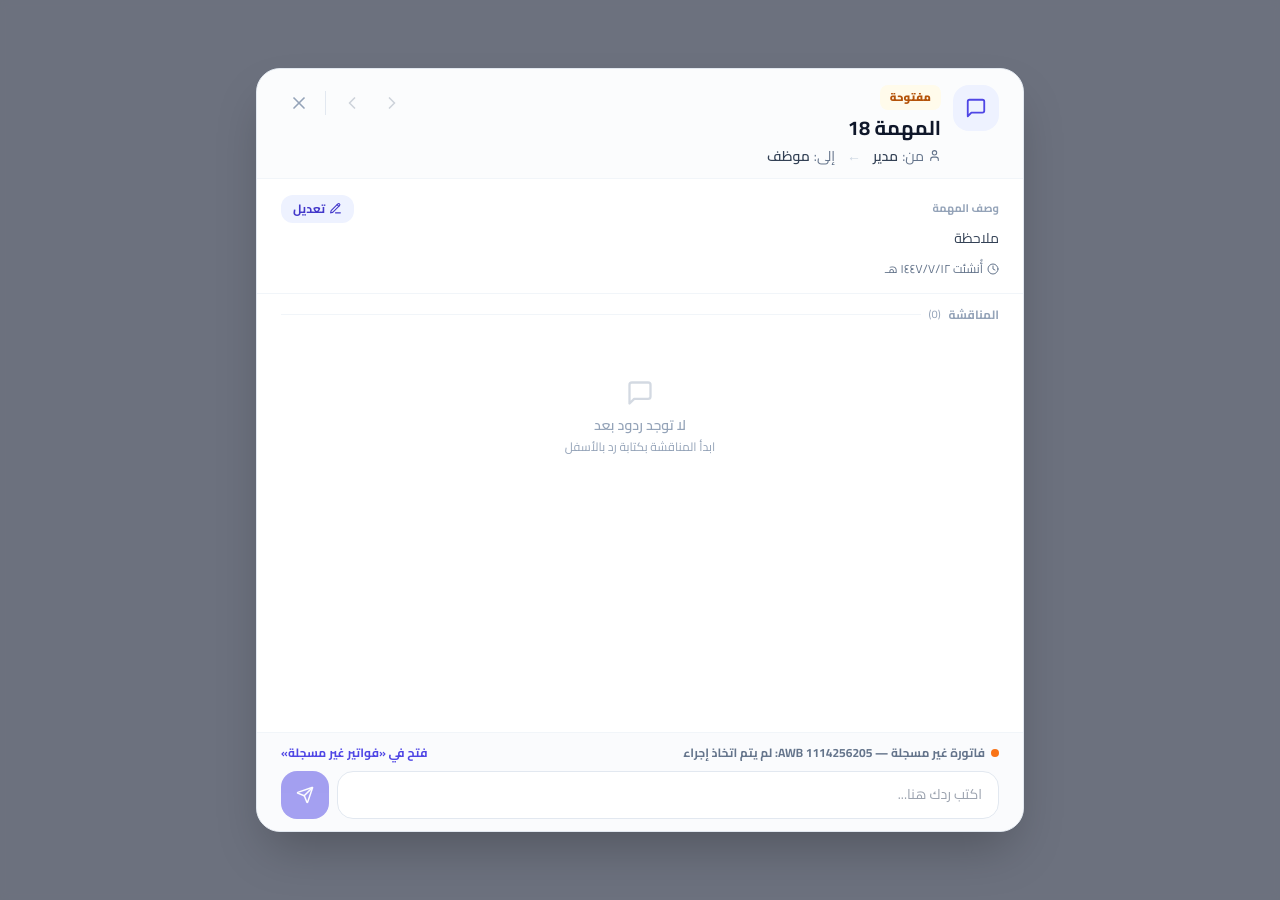
it: TaskDetailsModal — editing an open task › an unregistered-invoice record opens its own edit form (AWB, date, assignee) in the same window
Expected: the text "ملاحظة" is shown, top-left (954, 225), bottom-right (999, 251)
Expected: the text box labelled "اكتب ردك" is enabled, top-left (337, 771), bottom-right (999, 819)
Click the button "تعديل". click: (318, 209)
box: top-left (281, 195), bottom-right (354, 223)
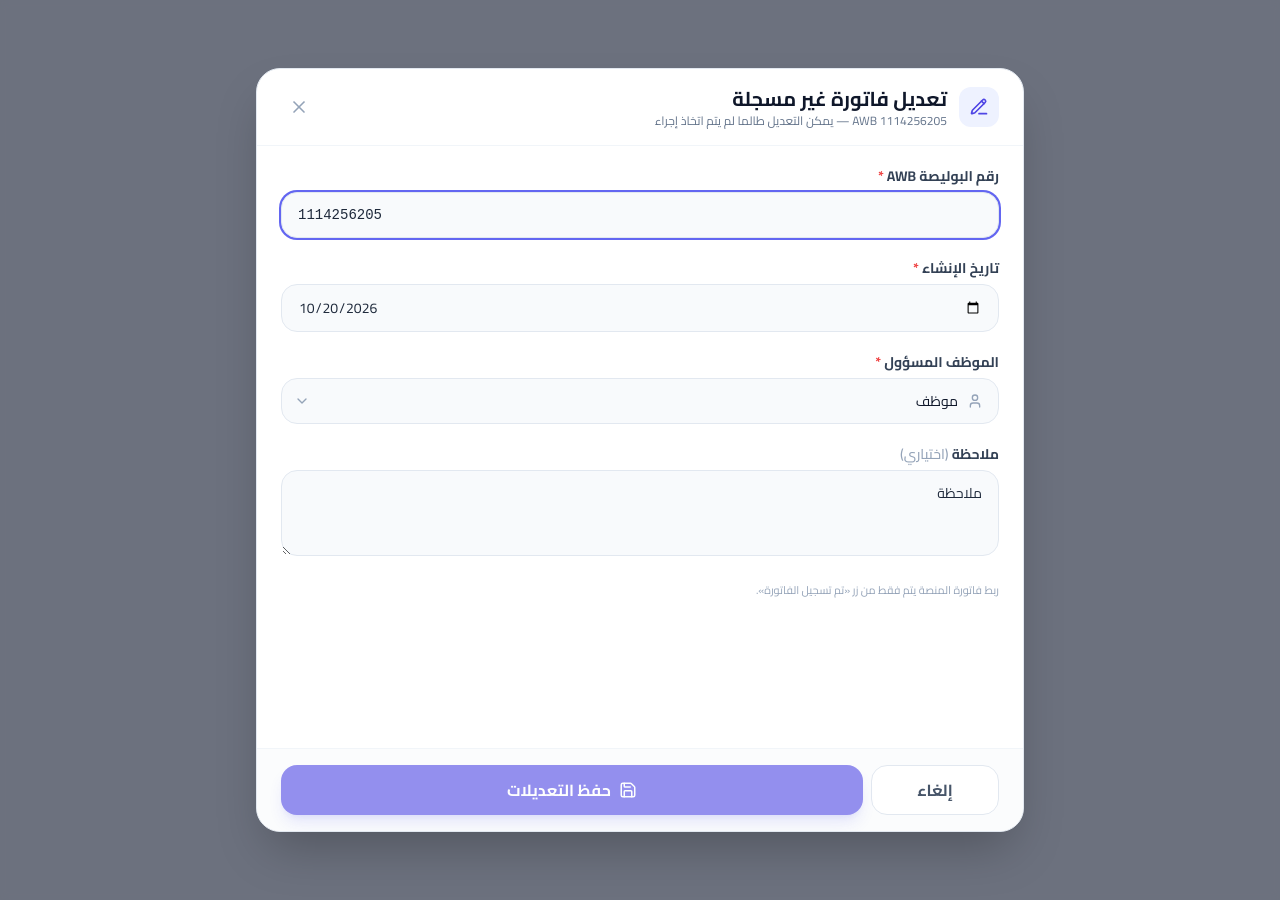
Now the field labelled "رقم البوليصة AWB *" holds "1114256205", box top-left (281, 192), bottom-right (999, 238)
Now the date field labelled "تاريخ الإنشاء *" holds "2026-10-20", box top-left (281, 284), bottom-right (999, 332)
